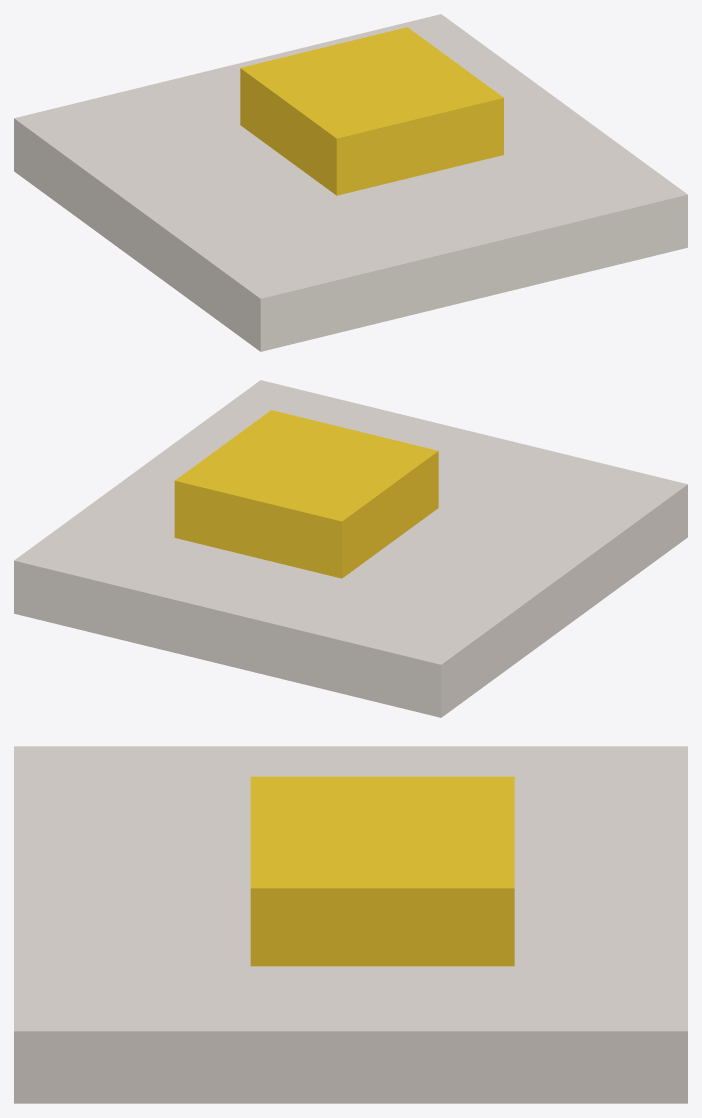
Rendered from Egg.glb.
The picture shows the model from 3 angles, top to bottom: view 1: azimuth 30°, elevation 25°; view 2: azimuth 150°, elevation 25°; view 3: azimuth 270°, elevation 25°; orthographic projection. The views are drawn at different scales.
Parts seen in each view (by area): view 1: SI_Food_Egg; view 2: SI_Food_Egg; view 3: SI_Food_Egg.
Boxes of the visible parts, box(x1,y1,x2,y2) form: SI_Food_Egg: box(14, 14, 687, 351); SI_Food_Egg: box(14, 380, 687, 717); SI_Food_Egg: box(14, 746, 687, 1103).
Bounding box in the file's own units: 0.00303 × 0.000746 × 0.00303.
Materials: 1 (1 with a texture image).
